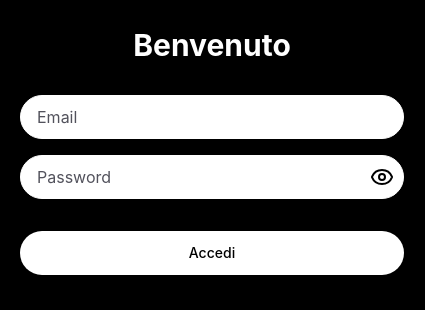
Scenario: LoginPage › AC4 - wrong credentials › shows the generic message, clears password, keeps email, focuses password
This screenshot has width=425, height=310.
Type "a@learnn.com" into the field labelled "Email".
click(212, 117); type("a@learnn.com")  # box [20,95,404,139]
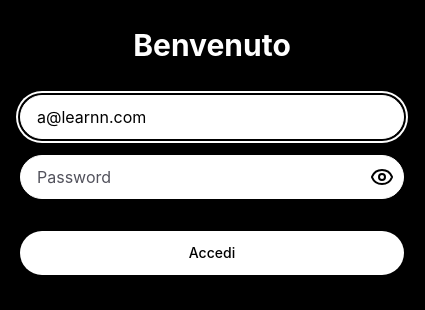
Type "wrong" into the password field labelled "Password".
click(212, 177); type("wrong")  # box [20,155,404,199]
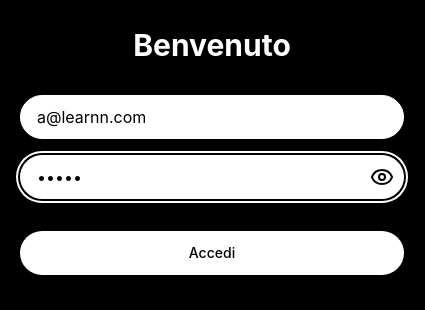
Click the button "Accedi".
click(212, 253)  # box [20,231,404,275]
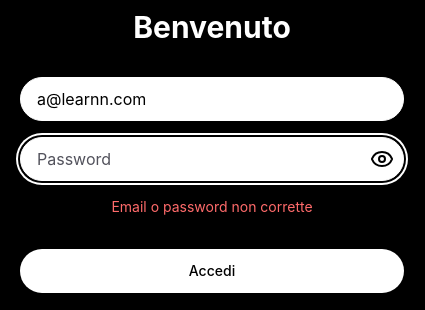
Expected: the button "Accedi" is enabled, [20,249,404,293]
Now the message reads "Email o password non corrette", box [111,198,313,215]
Now the password field labelled "Password" is empty, box [20,137,404,181]
